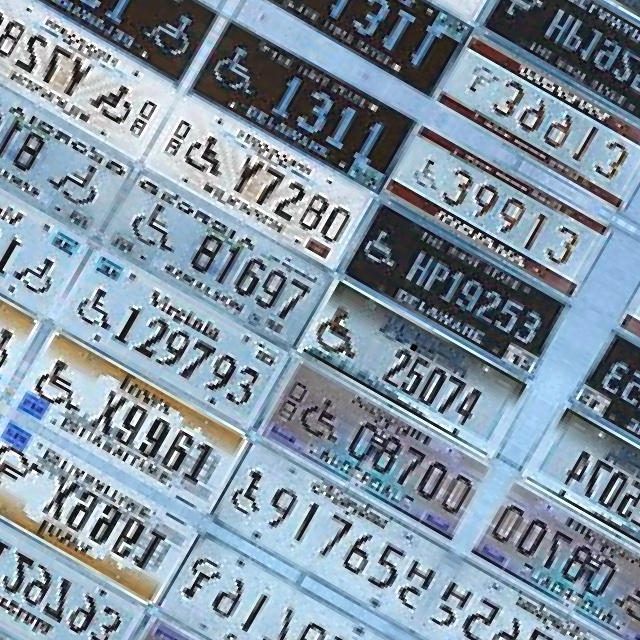ISA: (307, 299, 375, 366), (29, 353, 97, 418), (207, 39, 273, 101), (44, 148, 109, 210), (125, 195, 190, 257), (136, 0, 201, 60), (175, 125, 237, 184), (83, 72, 144, 131), (174, 552, 229, 611), (295, 389, 351, 446), (225, 463, 279, 522), (70, 279, 126, 335), (8, 244, 64, 299), (0, 440, 47, 505), (361, 225, 406, 271), (461, 60, 503, 103), (409, 151, 450, 194), (613, 572, 640, 628), (0, 309, 21, 374), (500, 0, 545, 27), (264, 0, 330, 1)
